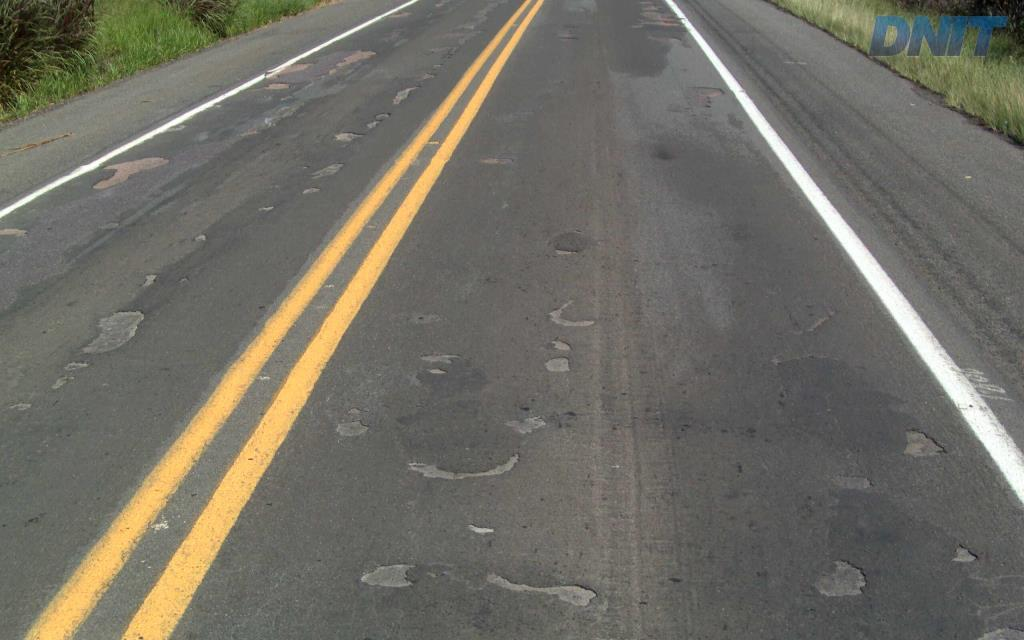pothole: (477, 567, 602, 612), (394, 451, 531, 485), (797, 547, 879, 602), (355, 549, 422, 592), (893, 423, 955, 462), (537, 295, 604, 330), (325, 418, 376, 450), (457, 517, 505, 537), (947, 544, 985, 568), (543, 244, 583, 266), (539, 353, 571, 375), (412, 349, 466, 361), (548, 337, 574, 353), (420, 366, 451, 379), (340, 403, 361, 418)
